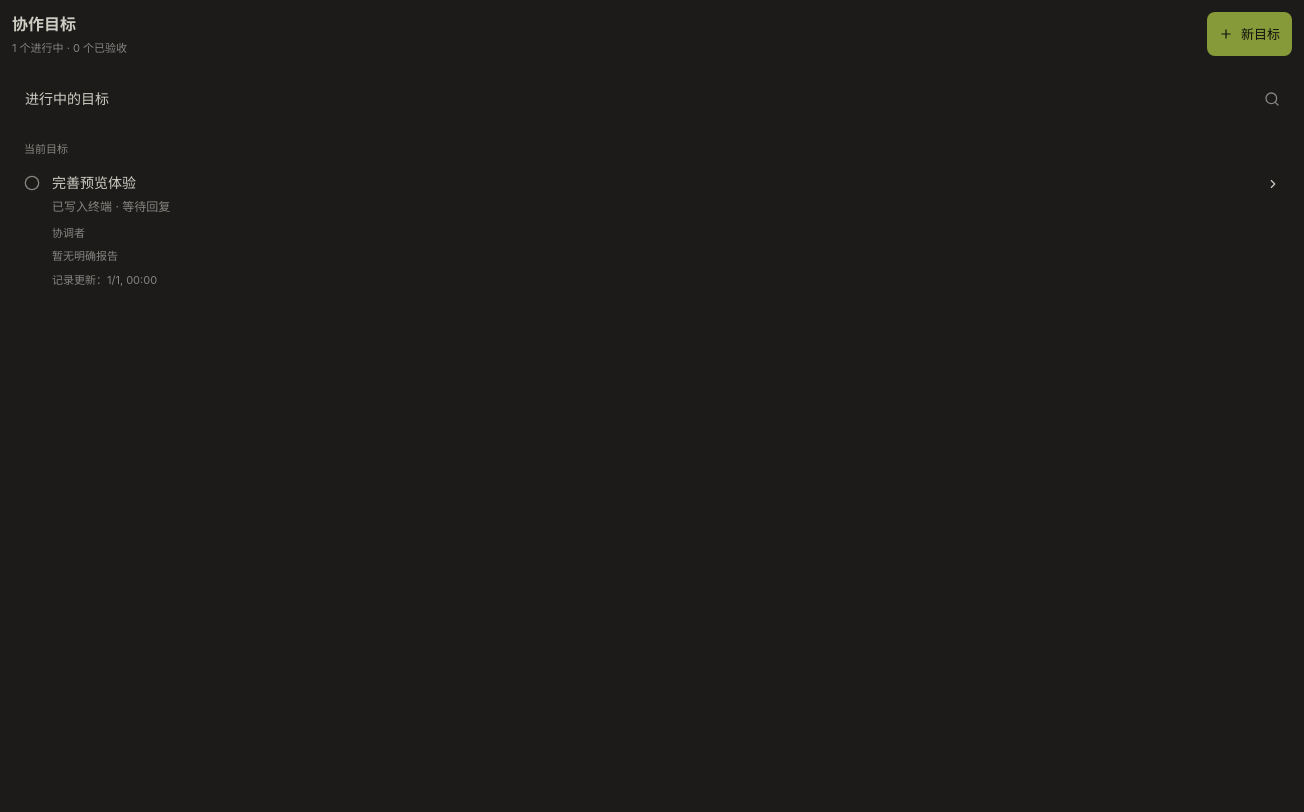
Test: collaboration goal journeys › does not clear a newer shared draft when an earlier submission succeeds
This screenshot has width=1304, height=812.
Click the button "完善预览体验 已写入终端 · 等待回复 协调者 暂无明确报告 记录更新：1/1, 00:00" at (652, 231), box x1=12 y1=161 x2=1292 y2=302
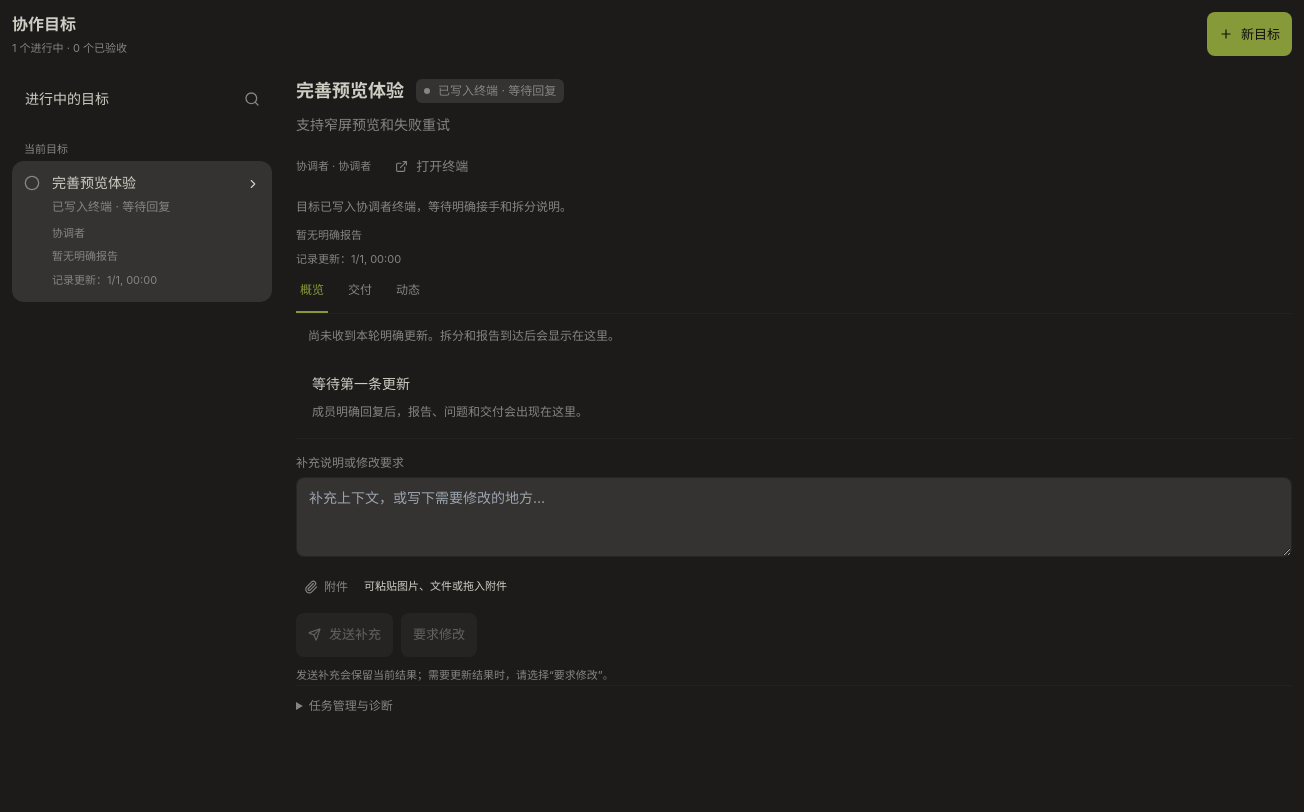
Type "已提交内容" into the text box labelled "补充说明或修改要求" at (794, 516), box x1=296 y1=476 x2=1292 y2=556
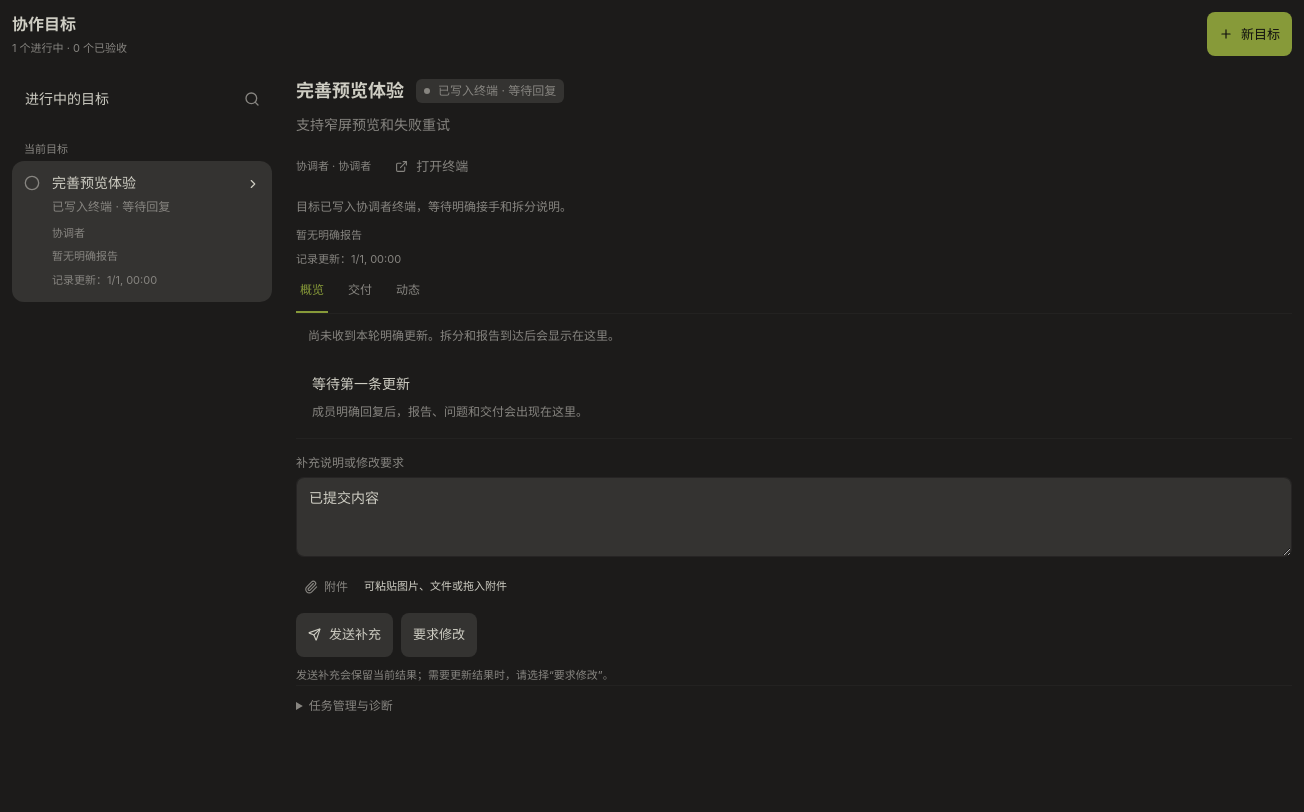
Click the button "发送补充" at (344, 634), box x1=296 y1=612 x2=393 y2=656
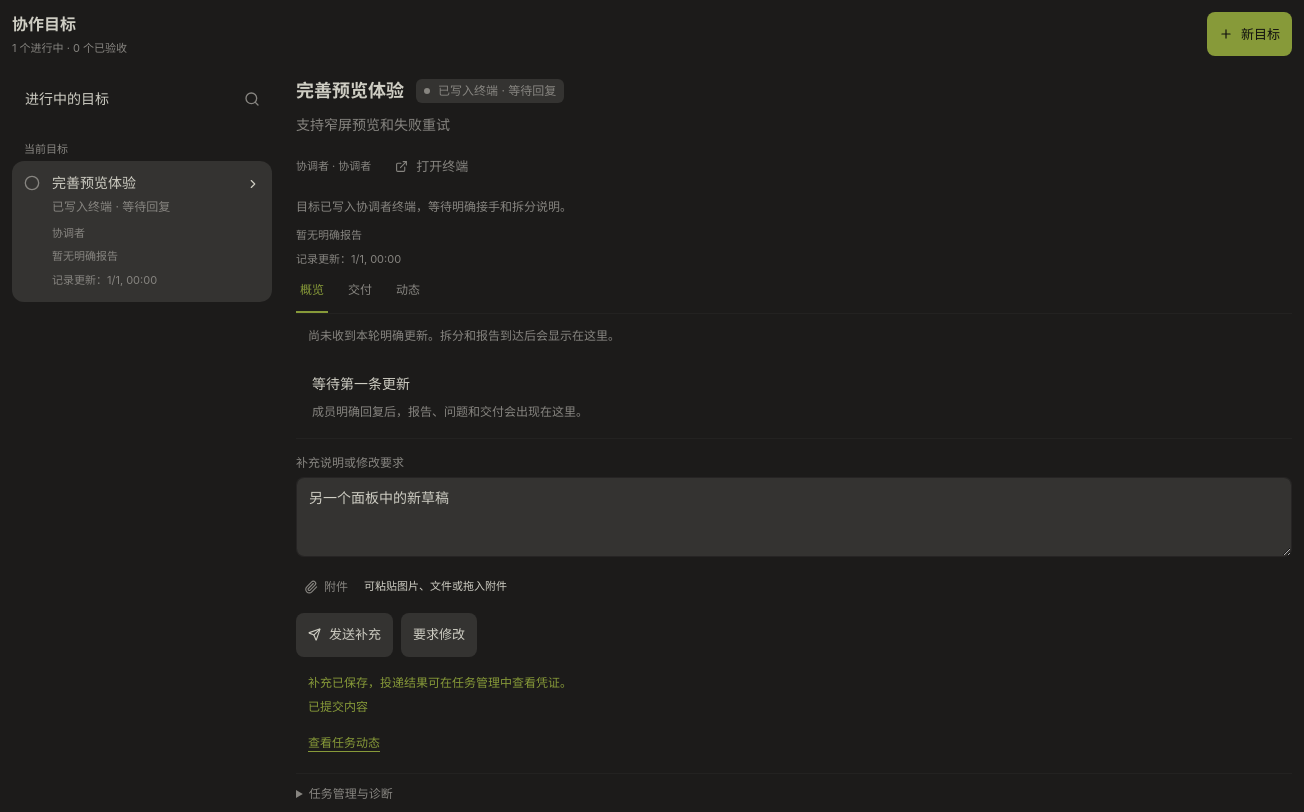
Expected: the text box labelled "补充说明或修改要求" holds "另一个面板中的新草稿", x1=296 y1=476 x2=1292 y2=556
